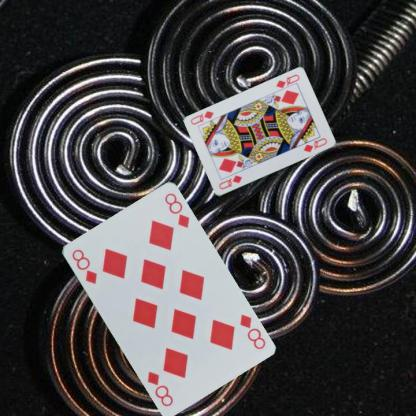8d: (237, 311, 267, 351), (69, 246, 98, 286)
Qd: (273, 72, 301, 93), (216, 173, 243, 191)
